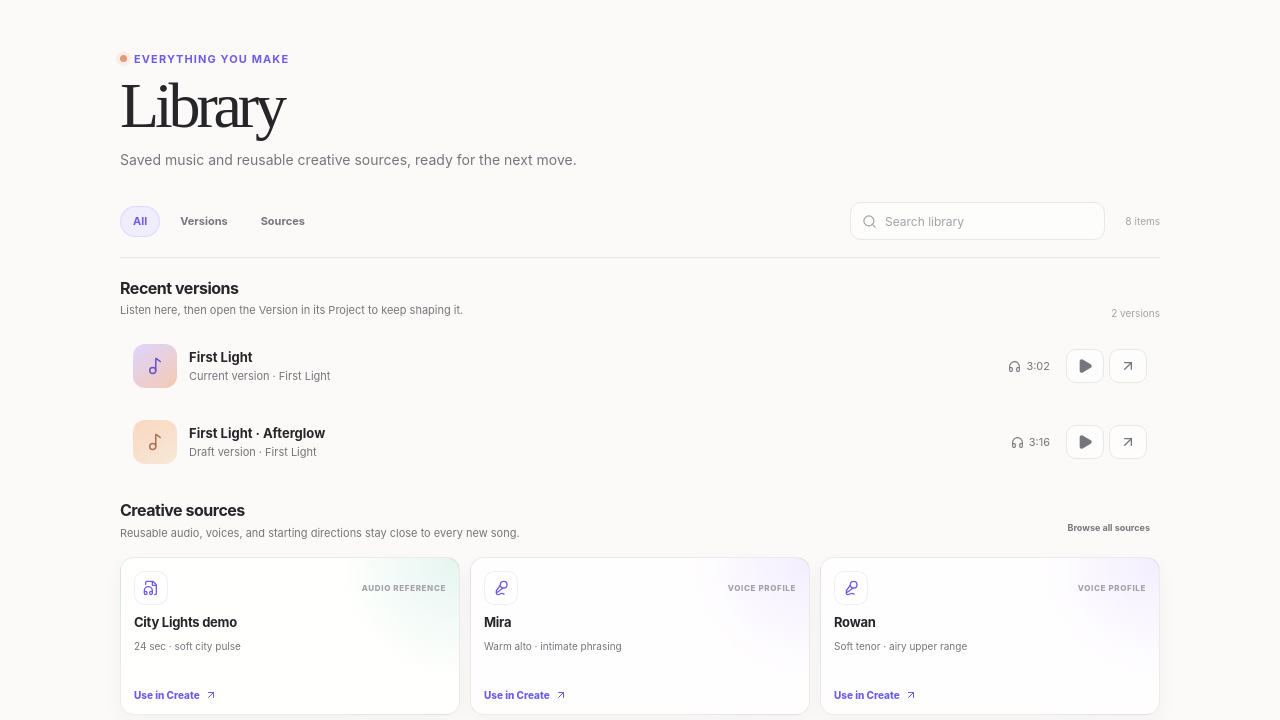
Mori catalog surfaces › hydrates reusable creative sources from the live library projection
The image size is (1280, 720).
Click the button "Sources" at (283, 221), box [248,206,318,237]
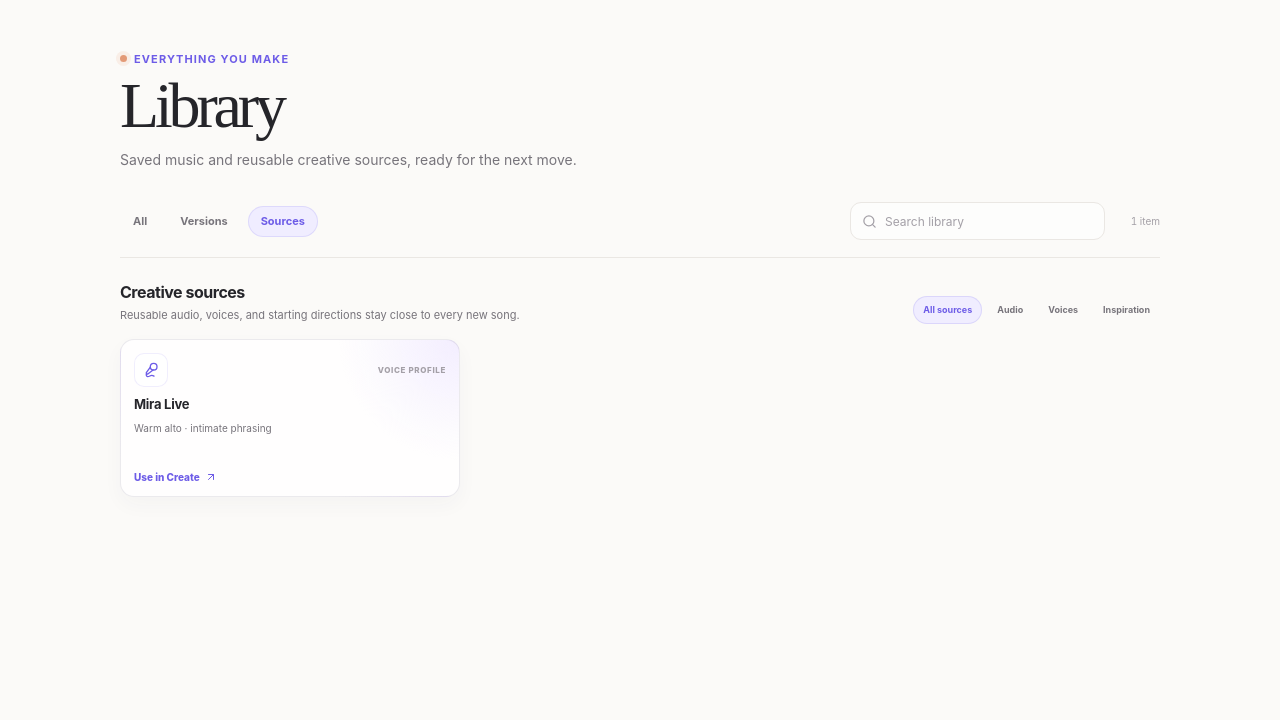
Result: the heading "Mira Live" is shown at [134,396,189,412]
Result: the heading "City Lights demo" is gone
